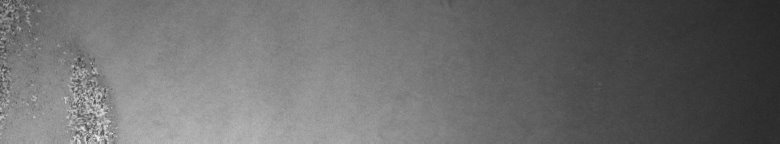hc: (4, 4, 118, 136)
